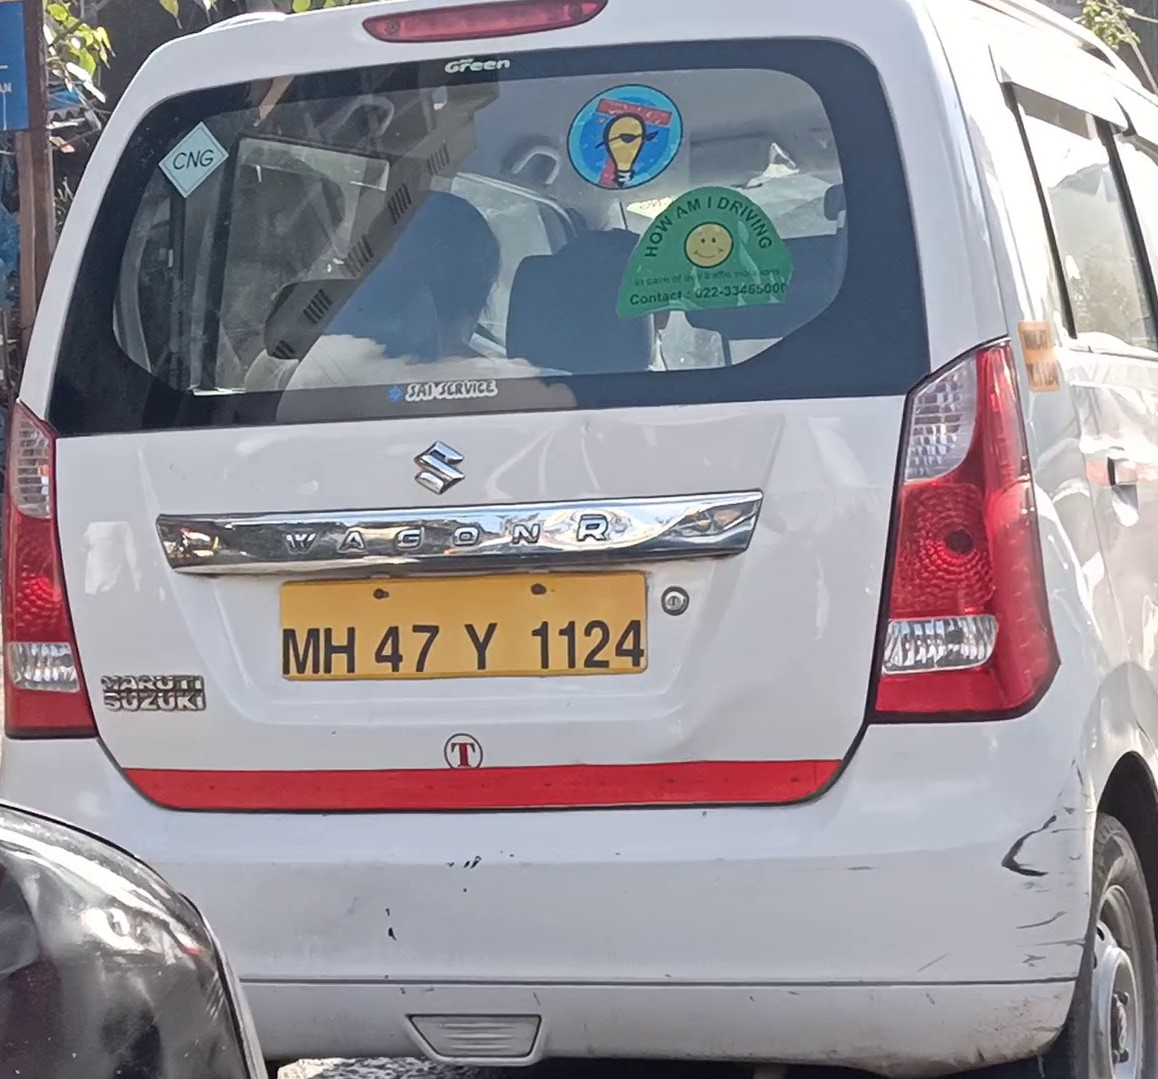MH47Y1124: (279, 574, 649, 677)
